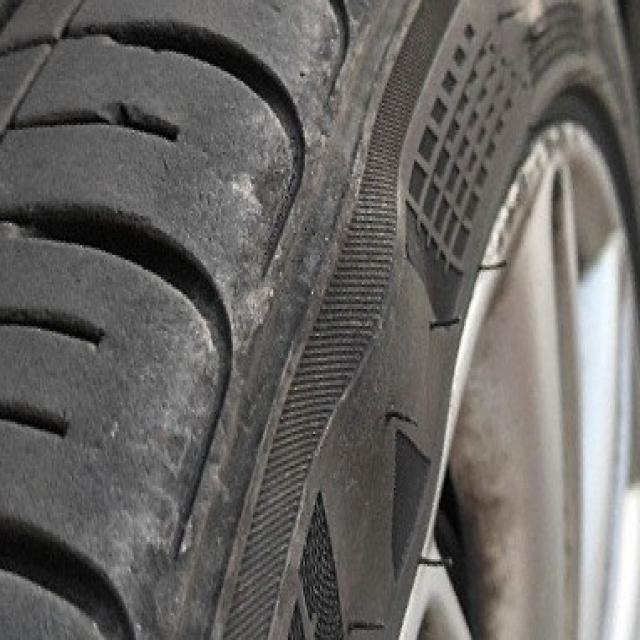Bulge: (296, 109, 462, 512)
